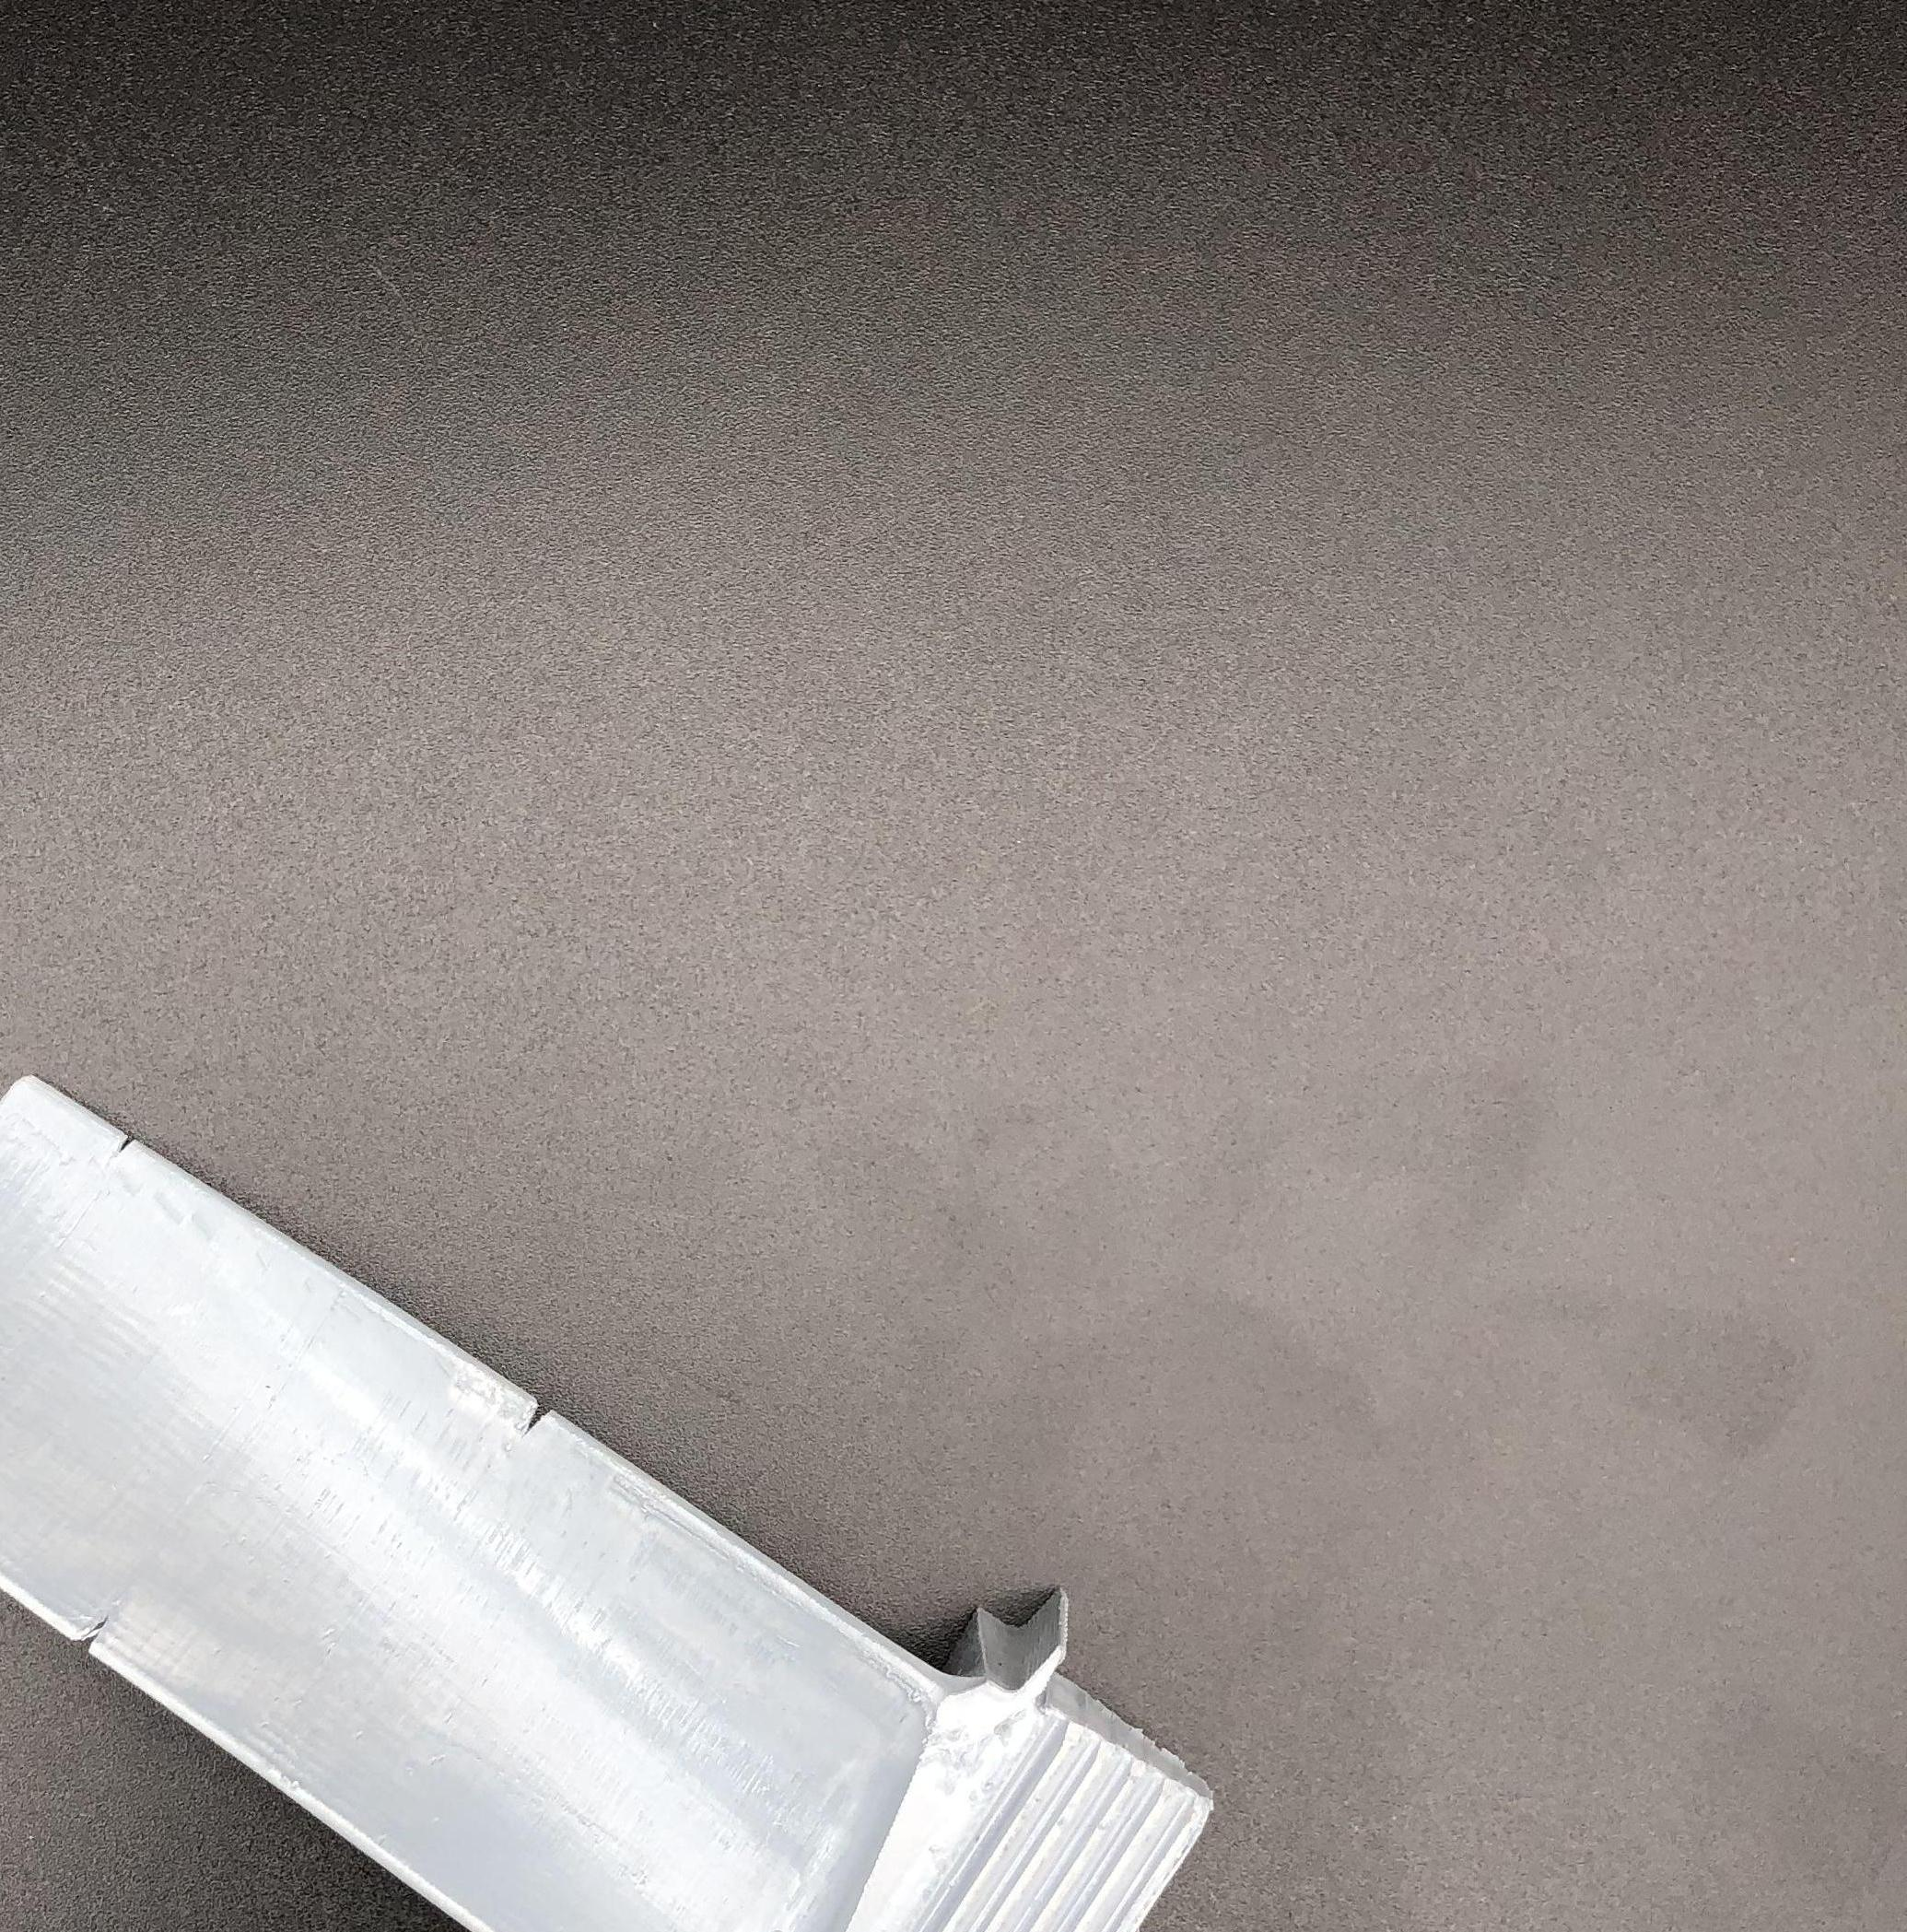groove: (498, 1377, 576, 1438), (63, 1605, 134, 1658), (101, 1118, 145, 1160)
